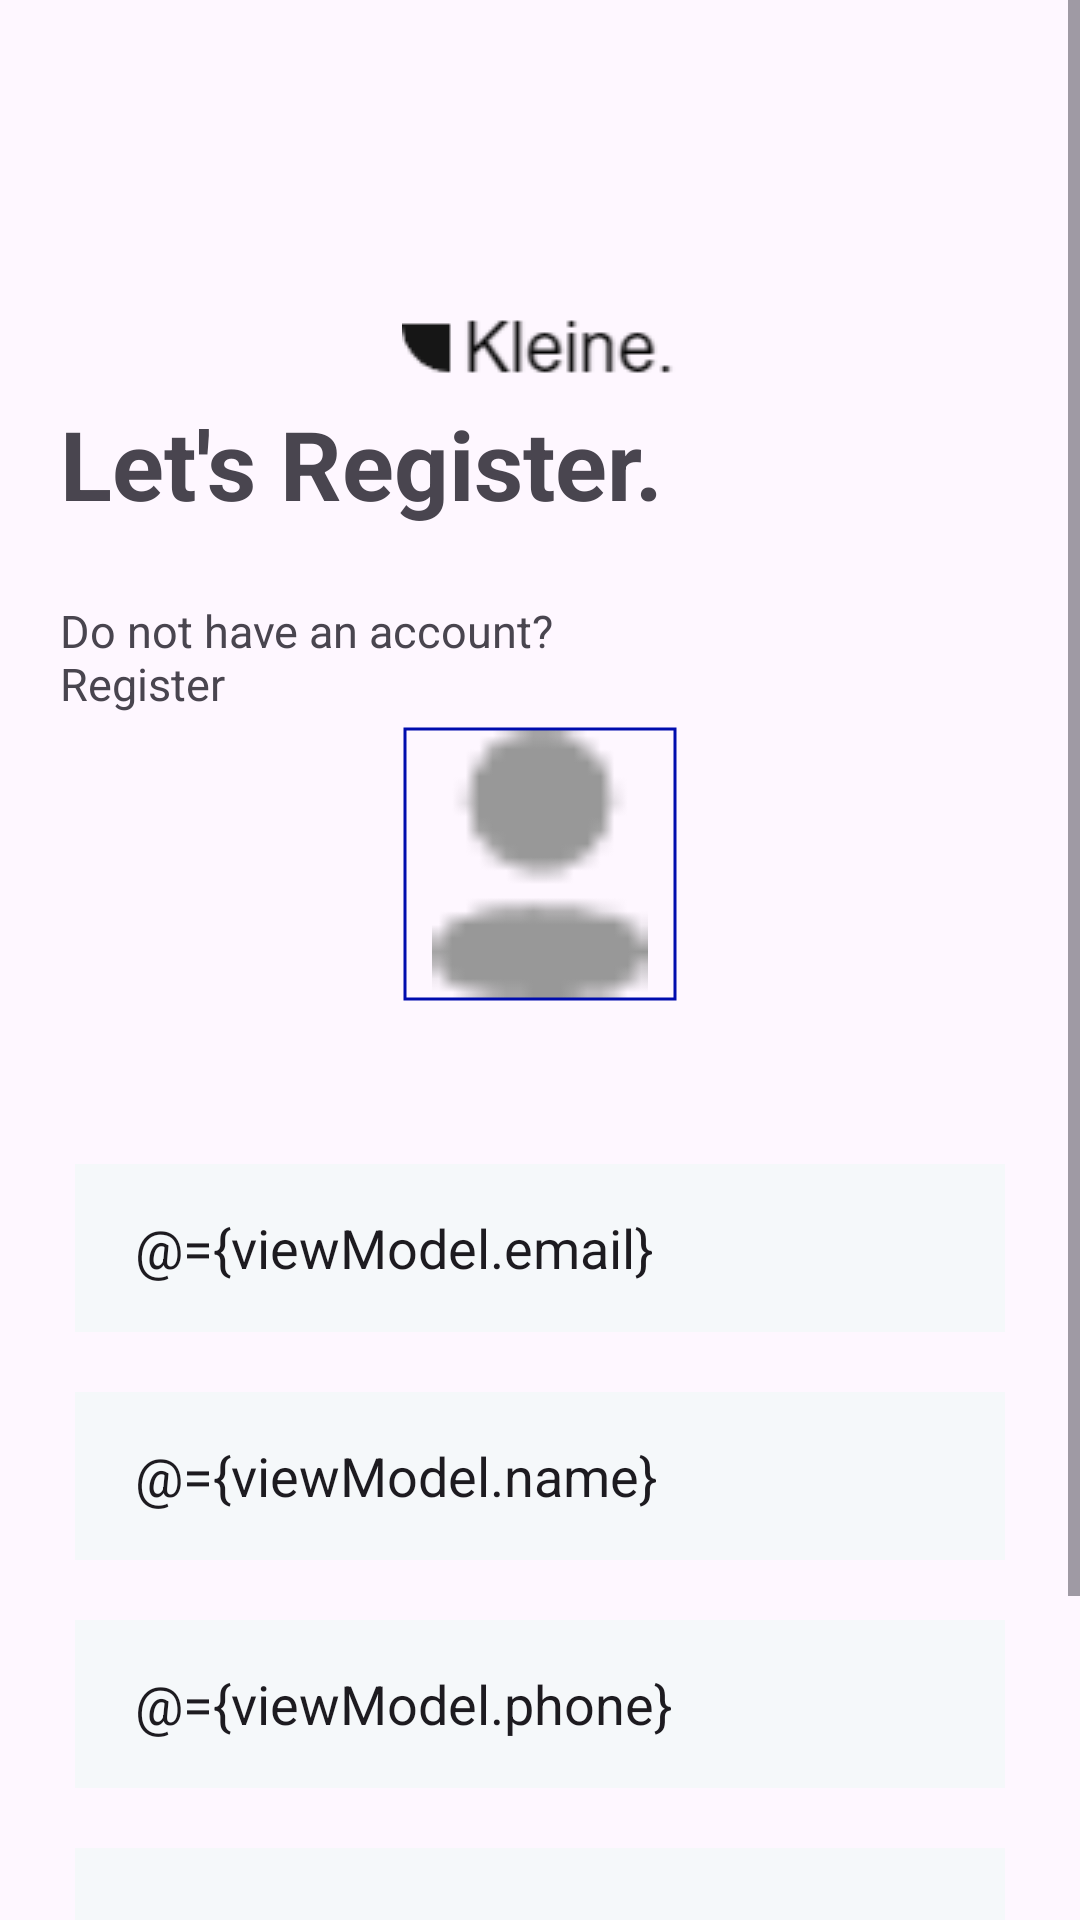

Screen size 1080×1920. Icon name, then its center in pixels as point (x, y):
profile: point (540, 864)
